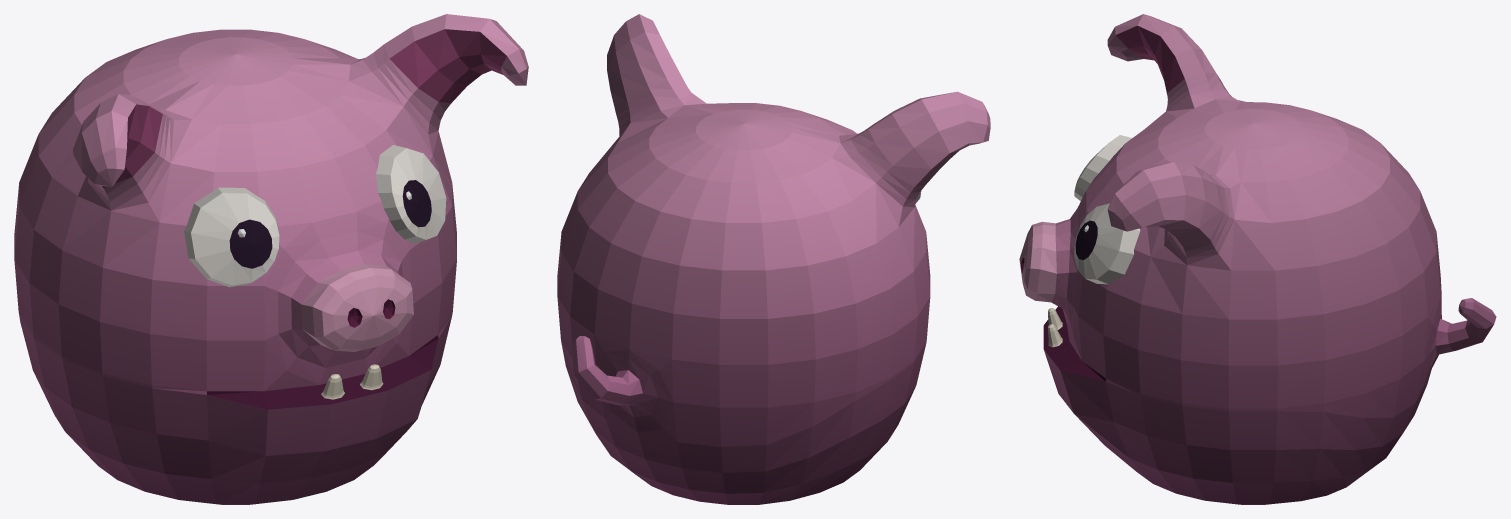
Rendered from Pig.glb.
3 renders of one model, left to right at view 1: azimuth 30°, elevation 25°; view 2: azimuth 150°, elevation 25°; view 3: azimuth 270°, elevation 25°, orthographic. The views are drawn at different scales.
Parts seen in each view (by area): view 1: Body; view 2: Body; view 3: Body.
Boxes of the visible parts, x1,y1,x2,y2 form: Body: [14, 14, 528, 504]; Body: [557, 14, 990, 504]; Body: [1019, 14, 1496, 504].
Bounding box in the file's own units: 1.6 × 1.58 × 1.78.
